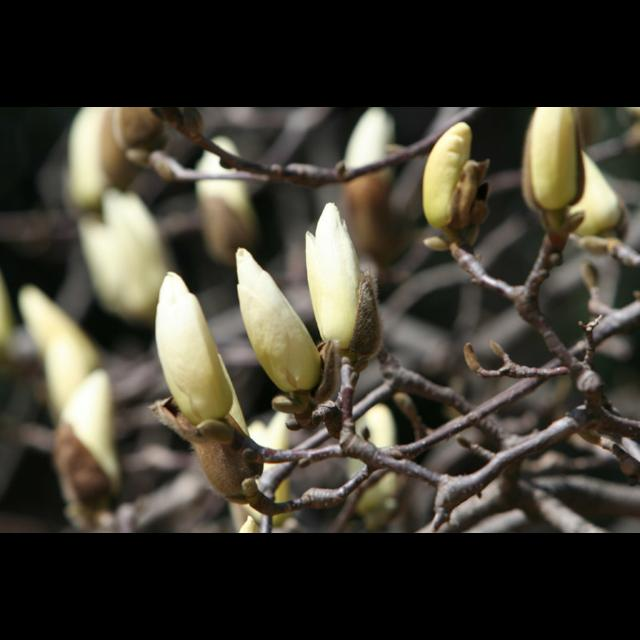Flower: (304, 206, 364, 350)
